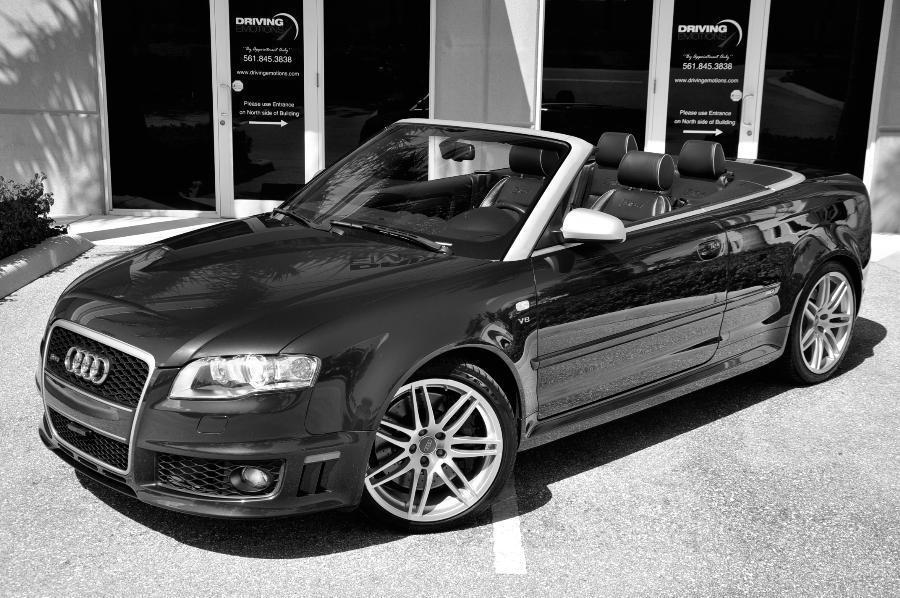car: (35, 119, 874, 538)
